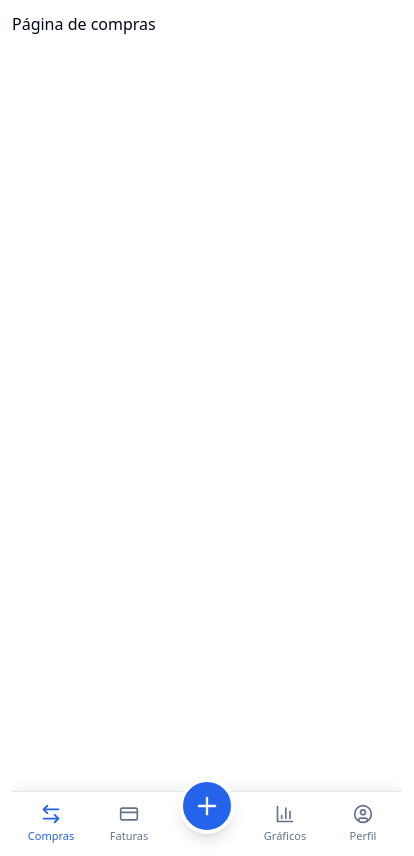
BottomNavigation › navega para outra página ao tocar na aba
Click the button "Faturas" at (129, 824), box [90,792,168,855]
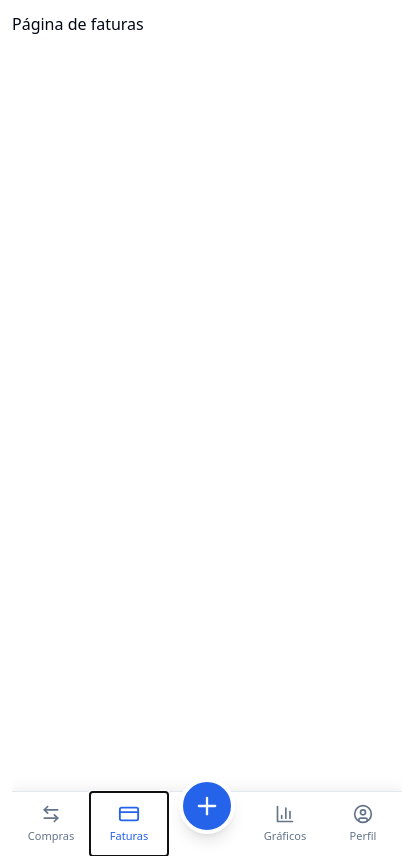
Expected: the text "Página de faturas" is shown, [12,13,144,35]
